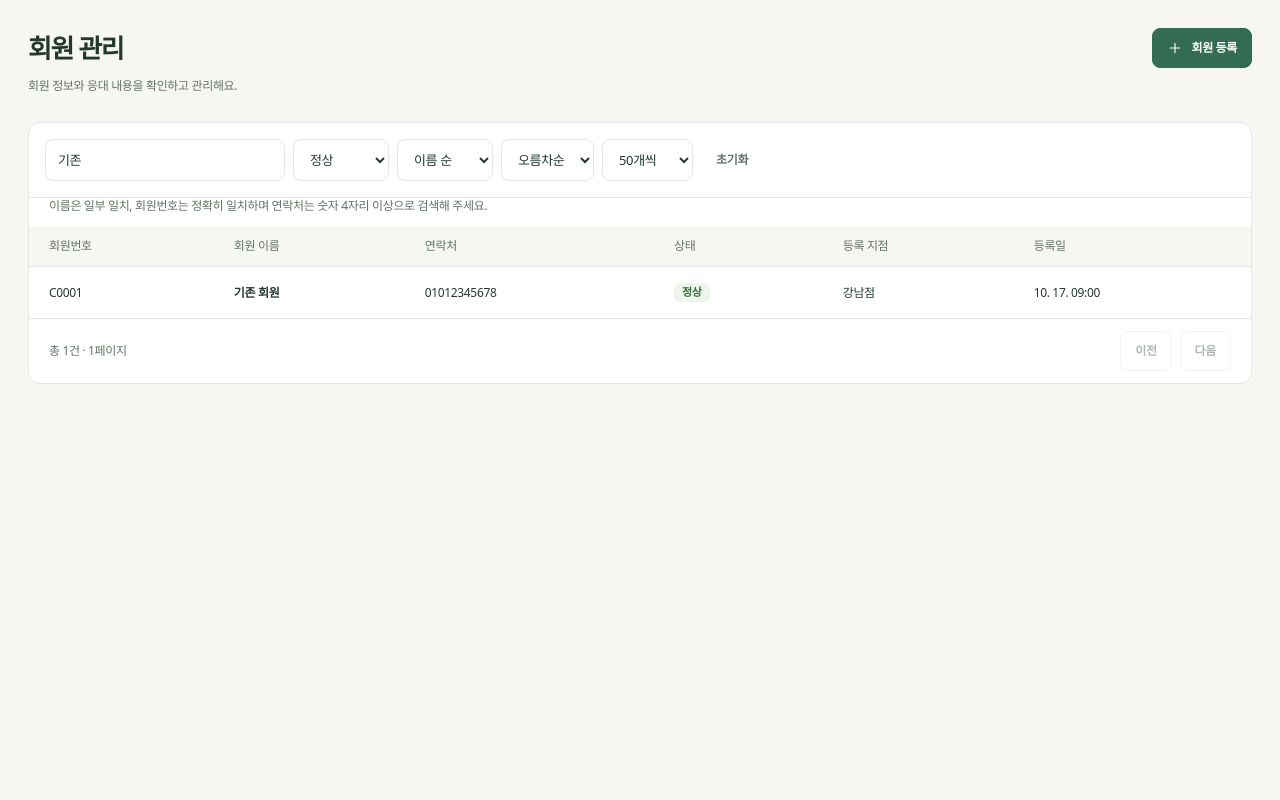
shows minimal list information and keeps detail closing separate from URL filters
Expected: the text "private@example.test" is not shown
Expected: the text "상세 전용 응대 메모" is not shown
Click the button "기존 회원" at {"x": 257, "y": 293}, box [234,285,279,301]
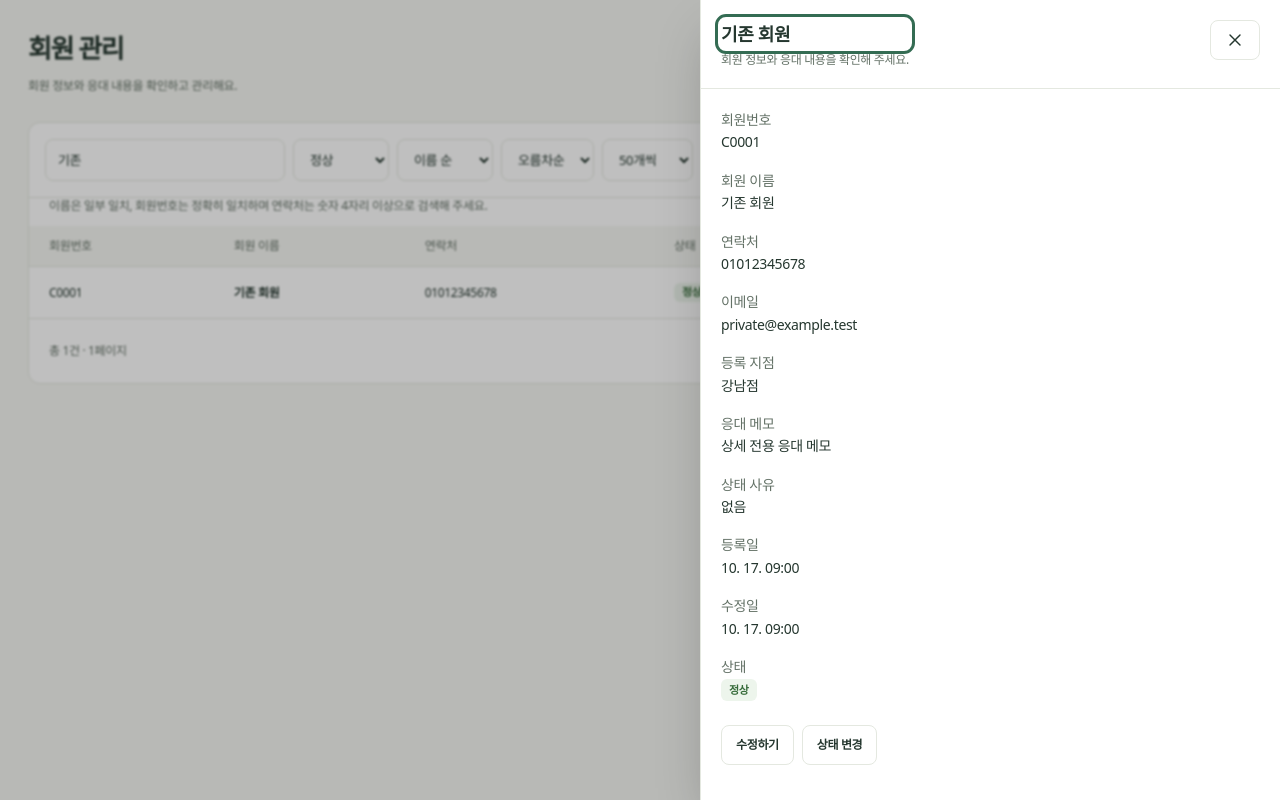
Now the text "상세 전용 응대 메모" is shown, box [721,436,831,455]
Click the button named "닫기" at {"x": 1235, "y": 40}, box [1210,20,1260,60]
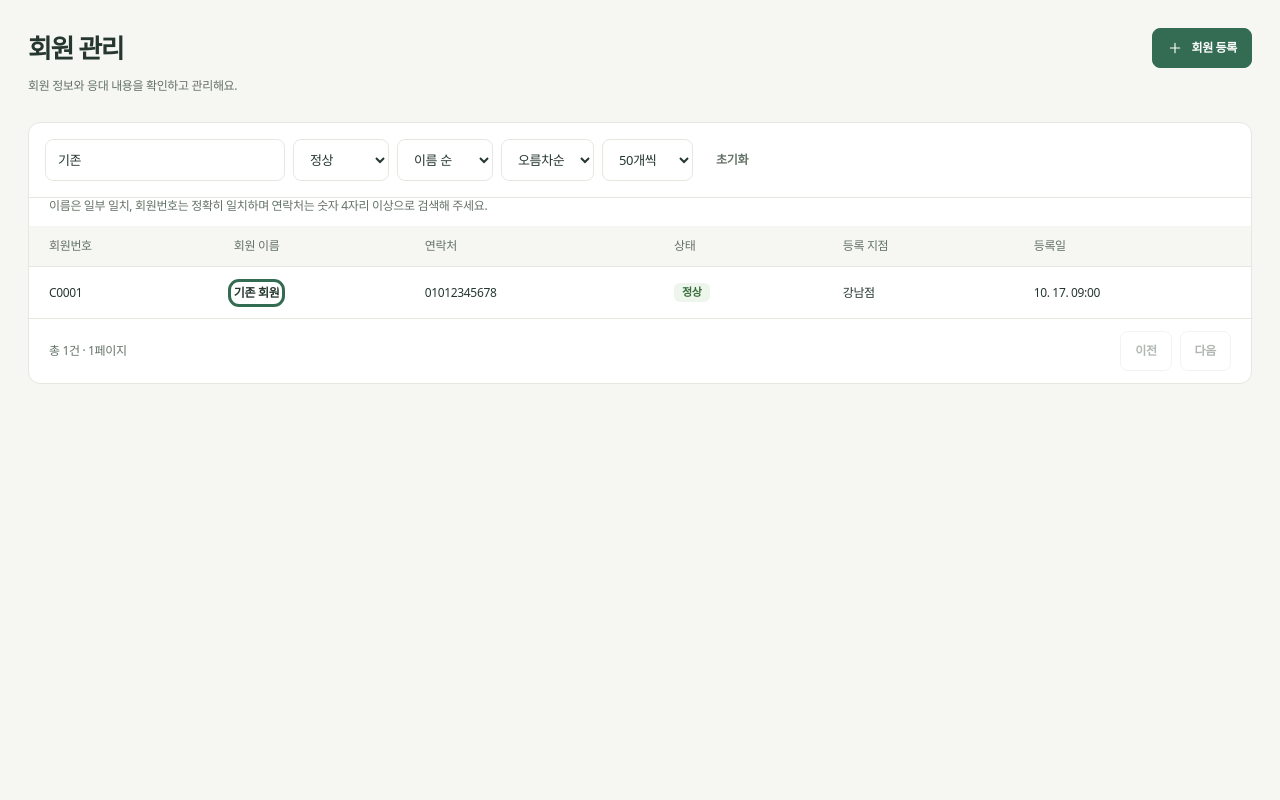
Now the dialog is gone
